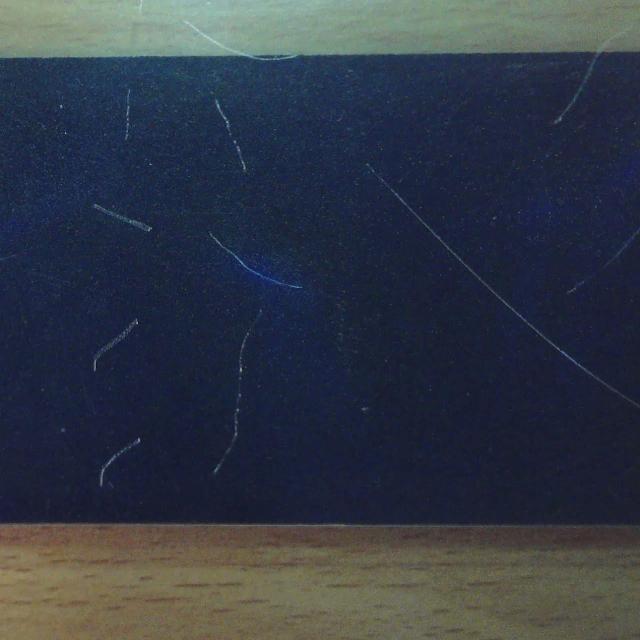defect: (365, 161, 640, 410), (212, 308, 264, 476), (209, 232, 303, 290), (566, 226, 640, 295), (543, 55, 599, 126), (211, 96, 251, 174), (89, 314, 140, 374), (98, 438, 142, 488), (93, 204, 152, 232), (117, 87, 141, 142), (250, 55, 300, 64)
